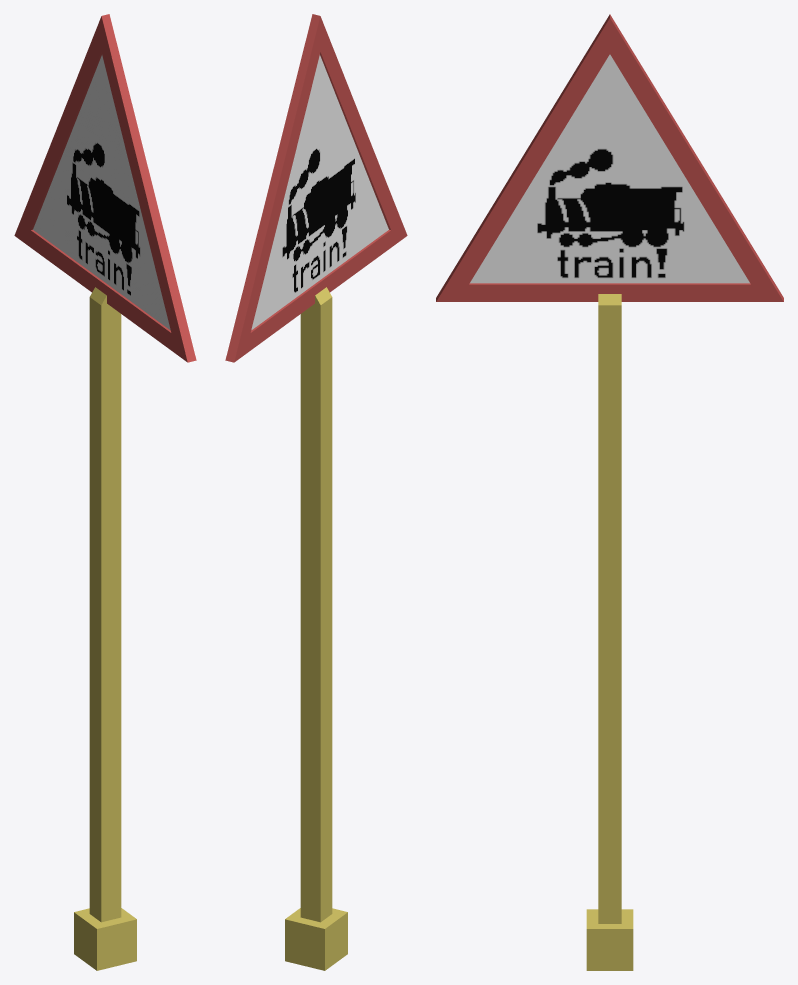
The model's file is trainpost.glb.
The picture shows the model from 3 angles, left to right: view 1: azimuth 30°, elevation 25°; view 2: azimuth 150°, elevation 25°; view 3: azimuth 270°, elevation 25°; orthographic projection.
Visible parts, largest first — view 1: Cube.001, Cube, Cube.002; view 2: Cube.001, Cube, Cube.002; view 3: Cube, Cube.002, Cube.001.
Part boxes in pixels (x1=…): Cube.001: x1=74, y1=287, x2=136, y2=970; Cube: x1=33, y1=55, x2=170, y2=329; Cube.002: x1=14, y1=14, x2=196, y2=362; Cube.001: x1=285, y1=287, x2=347, y2=970; Cube: x1=251, y1=55, x2=388, y2=329; Cube.002: x1=225, y1=14, x2=407, y2=362; Cube: x1=470, y1=54, x2=749, y2=283; Cube.002: x1=436, y1=14, x2=783, y2=301; Cube.001: x1=586, y1=294, x2=633, y2=970.
Bounding box in the file's own units: 0.18 × 4.05 × 1.35.
2 materials, 2 textured.
